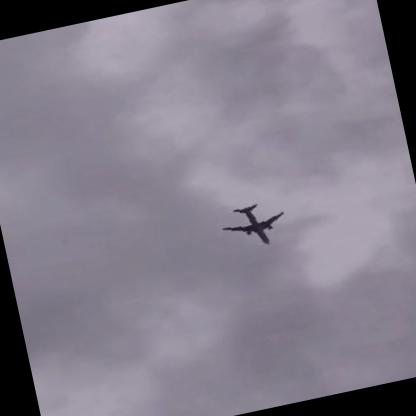plane: (216, 196, 288, 254)
